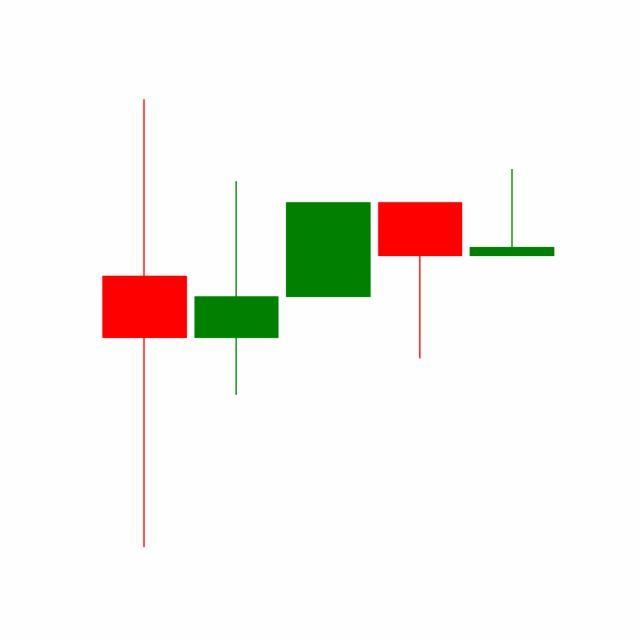Gravestone Doji: (466, 168, 559, 257)
